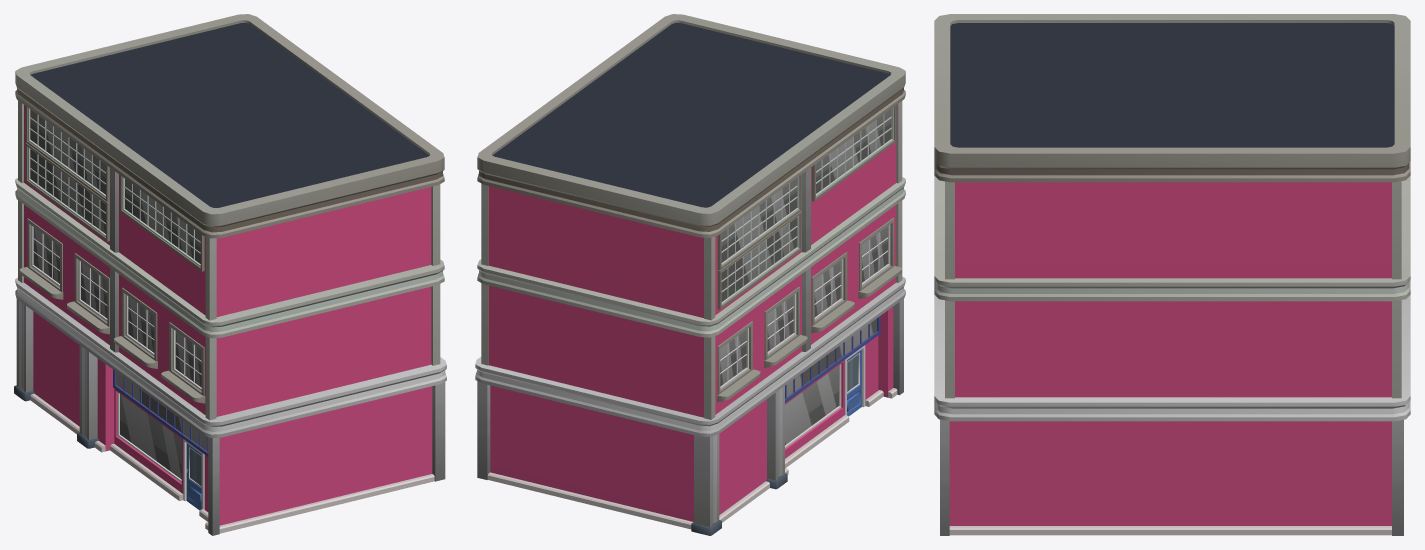
File: Building_11_1_C.fbx
3 views of the same model, side by side, from view 1: azimuth 30°, elevation 25°; view 2: azimuth 150°, elevation 25°; view 3: azimuth 270°, elevation 25° (orthographic). The views are drawn at different scales.
Visible parts, largest first — view 1: Building_11_1_C; view 2: Building_11_1_C; view 3: Building_11_1_C.
Part boxes in pixels (left/top/right/bottom): Building_11_1_C: left=14, top=14, right=446, bottom=535; Building_11_1_C: left=475, top=14, right=905, bottom=535; Building_11_1_C: left=934, top=14, right=1410, bottom=535.
Bounding box in the file's own units: 827 × 1034 × 1163.
